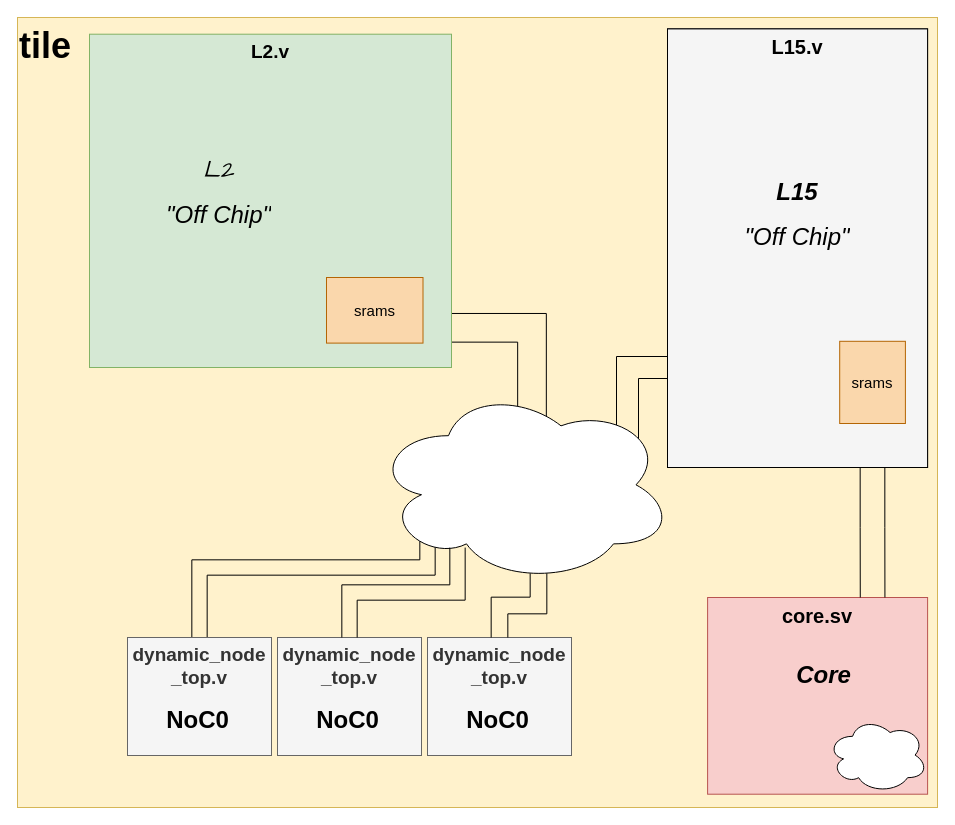
Image size: 955x825. Some labels were removed from this diagram. The shapes that lost their labels are listed below. From the top down, each one's centre as x and y in pixels, then its label:
At [523,484]: "dmbr.v, rtap.v, uncore_config.v".
At [877,754]: "AES IP".
